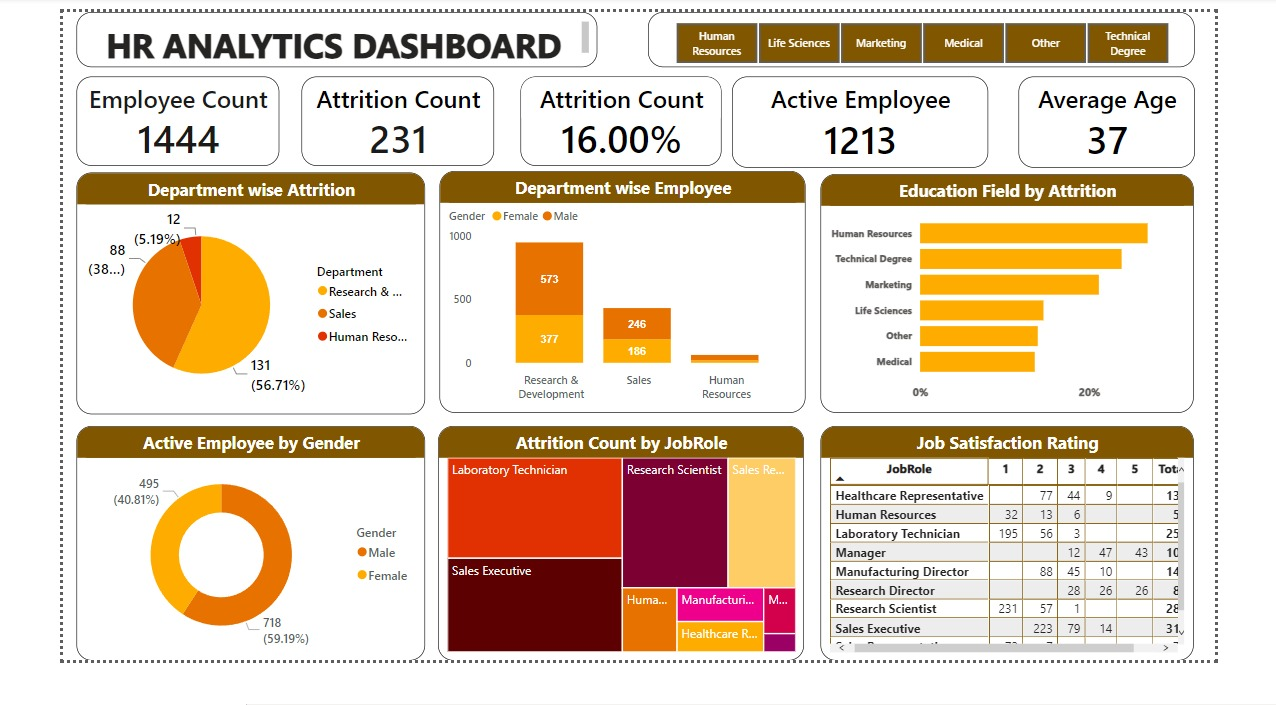

This screenshot's page, from the dashboard's own definition file:
{"tool":"powerbi","page":{"name":"Hr Analytics DAshboard","canvas":[1280,720],"ordinal":0},"visuals":[{"type":"card","title":"Attrition Count","fields":{"Values":["Sum(HR-Employee-Attrition.Attrition Count)"]},"box":[265.2,72.3,213.8,99.7],"z":1},{"type":"card","title":"Employee Count","fields":{"Values":["CountNonNull(HR-Employee-Attrition.EmployeeCount)"]},"box":[14.5,72.3,225,99.7],"z":4},{"type":"card","title":"Attrition Count","fields":{"Values":["HR-Employee-Attrition.Attrition Rate"]},"box":[507.9,72.3,223.4,99.7],"z":5},{"type":"card","title":"Active Employee","fields":{"Values":["HR-Employee-Attrition.Active Employee"]},"box":[742.6,72.3,284.5,101.3],"z":6},{"type":"card","title":"Average Age","fields":{"Values":["Avg(HR-Employee-Attrition.Age)"]},"box":[1060.9,72.3,196.1,101.3],"z":7},{"type":"pieChart","title":"Department wise Attrition","fields":{"Category":["HR-Employee-Attrition.Department"],"Y":["Sum(HR-Employee-Attrition.Attrition Count)"]},"box":[14.5,178.4,387.4,268.4],"z":8},{"type":"columnChart","title":"Department wise Employee","fields":{"Y":["Sum(HR-Employee-Attrition.EmployeeCount)"],"Category":["HR-Employee-Attrition.Department"],"Series":["HR-Employee-Attrition.Gender"]},"box":[417.9,176.8,406.7,268.4],"z":9},{"type":"pivotTable","title":"Job Satisfaction Rating","fields":{"Columns":["HR-Employee-Attrition.JobLevel"],"Rows":["HR-Employee-Attrition.JobRole"],"Values":["Sum(HR-Employee-Attrition.EmployeeCount)"]},"box":[842.3,459.7,414.7,260.4],"z":10},{"type":"barChart","title":"Education Field by Attrition","fields":{"Y":["HR-Employee-Attrition.Attrition Rate"],"Category":["HR-Employee-Attrition.EducationField"]},"box":[842.3,180,414.7,265.2],"z":11},{"type":"textbox","box":[14.5,0,578.7,61.1],"z":12},{"type":"slicer","fields":{"Values":["HR-Employee-Attrition.EducationField"]},"box":[649.4,0,607.6,61.1],"z":13},{"type":"donutChart","fields":{"Category":["HR-Employee-Attrition.Gender"],"Y":["HR-Employee-Attrition.Active Employee"]},"box":[14.5,459.7,387.4,260.4],"z":14},{"type":"treemap","title":" Attrition Count by JobRole","fields":{"Values":["Sum(HR-Employee-Attrition.Attrition Count)"],"Details":["HR-Employee-Attrition.JobRole"]},"box":[416.3,459.7,406.7,260.4],"z":15}]}

Visuals, with their boxes in screenshot pixels (x1, y1, x2, y2), scaled from the page's 1280x720 canvas onto the 1276x705 screenshot:
"Attrition Count" card: locate(264, 71, 478, 168)
"Employee Count" card: locate(14, 71, 239, 168)
"Attrition Count" card: locate(506, 71, 729, 168)
"Active Employee" card: locate(740, 71, 1024, 170)
"Average Age" card: locate(1058, 71, 1253, 170)
"Department wise Attrition" pieChart: locate(14, 175, 401, 437)
"Department wise Employee" columnChart: locate(417, 173, 822, 436)
"Job Satisfaction Rating" pivotTable: locate(840, 450, 1253, 704)
"Education Field by Attrition" barChart: locate(840, 176, 1253, 436)
textbox: locate(14, 0, 591, 60)
slicer - HR-Employee-Attrition.EducationField: locate(647, 0, 1253, 60)
donutChart - HR-Employee-Attrition.Gender x HR-Employee-Attrition.Active Employee: locate(14, 450, 401, 704)
" Attrition Count by JobRole" treemap: locate(415, 450, 820, 704)
